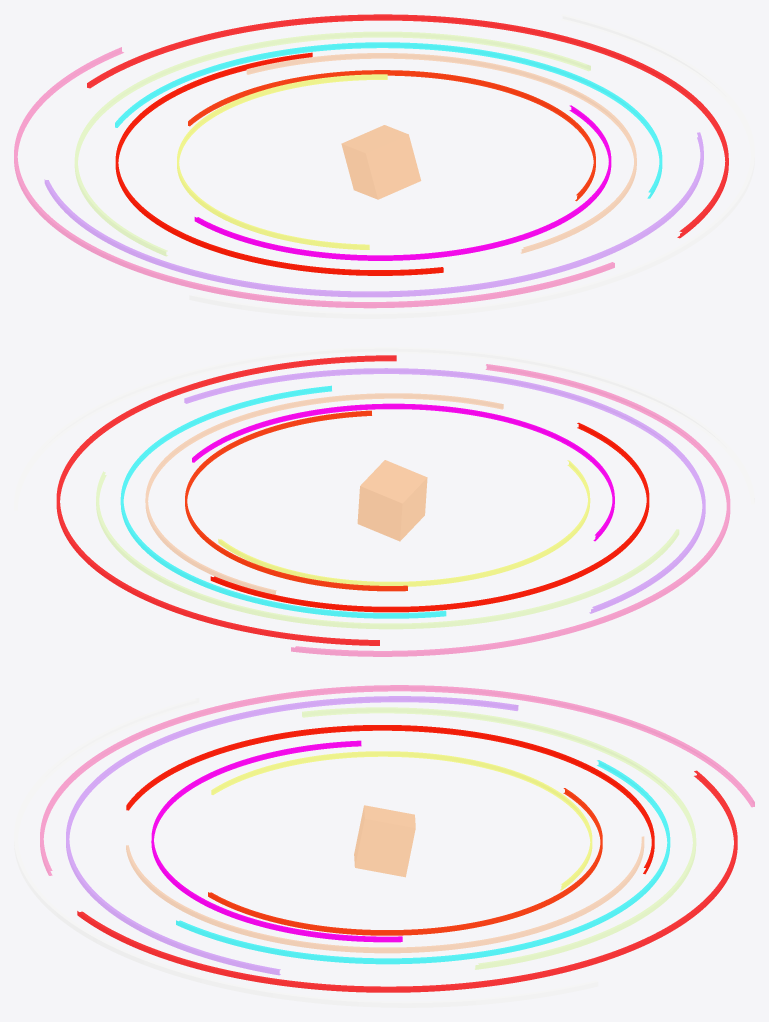
Rendered from CubeGalaxy.glb.
3 views of the same model, one above another, from view 1: azimuth 30°, elevation 25°; view 2: azimuth 150°, elevation 25°; view 3: azimuth 270°, elevation 25° (orthographic). The views are drawn at different scales.
Parts seen in each view (by area): view 1: Cube; view 2: Cube; view 3: Cube.
Part boxes in pixels (bbox=[...]): Cube: bbox=[14, 14, 754, 318]; Cube: bbox=[14, 347, 754, 656]; Cube: bbox=[14, 685, 754, 1007].
Bounding box in the file's own units: 14.5 × 1.33 × 14.28.
